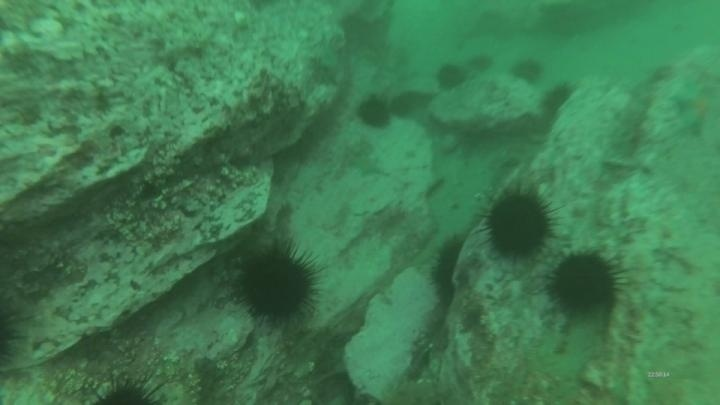echinus: (234, 242, 323, 327), (479, 186, 559, 263), (545, 248, 624, 317), (427, 235, 469, 306), (89, 377, 168, 404), (538, 81, 576, 121), (355, 94, 394, 131), (509, 56, 546, 87), (388, 89, 420, 122), (434, 62, 468, 93), (466, 51, 496, 76)
holothurian: (604, 92, 651, 160)
starfish: (669, 79, 718, 137), (349, 152, 386, 179)
